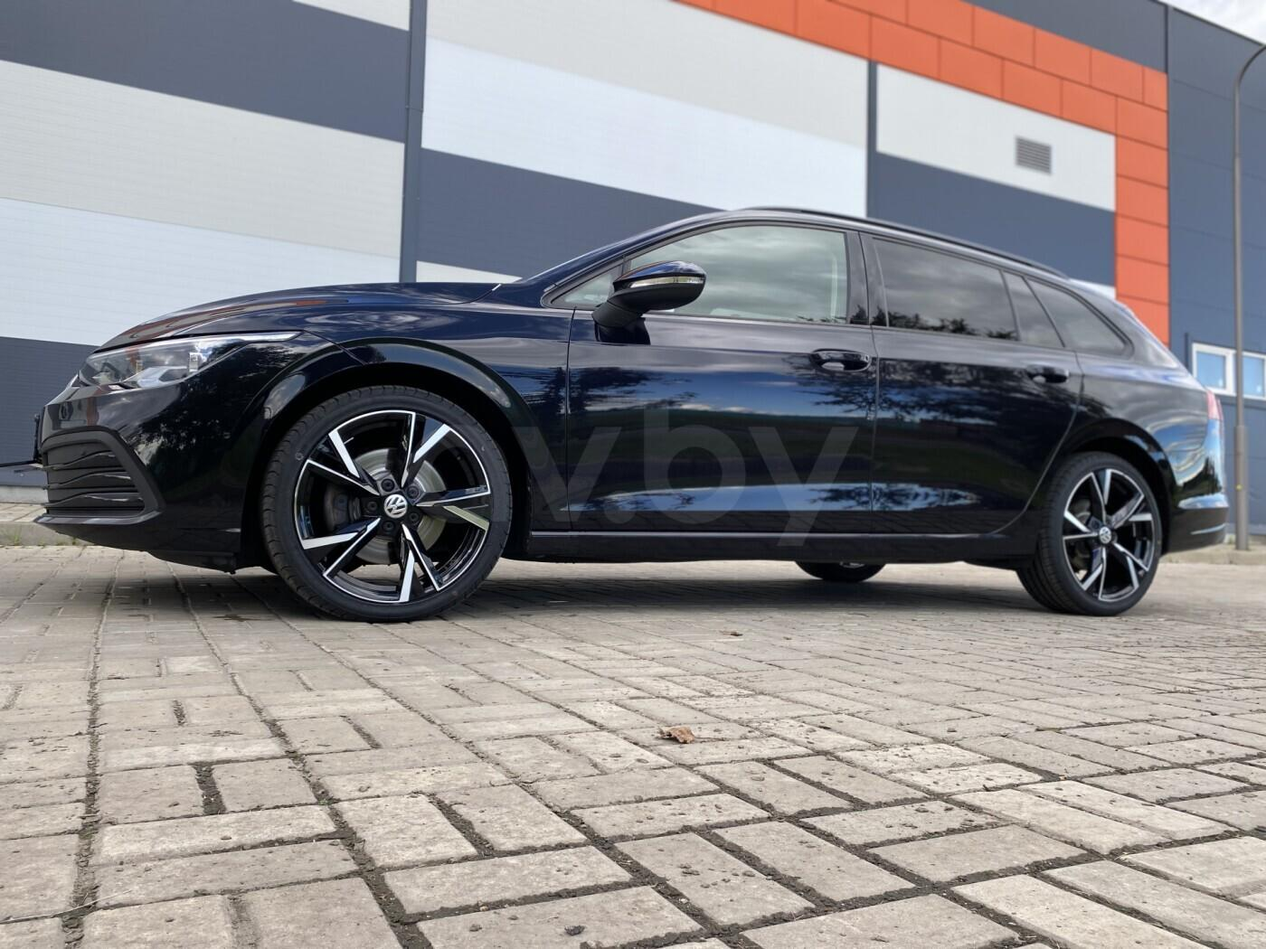Golf_2019: (34, 209, 1243, 637)
